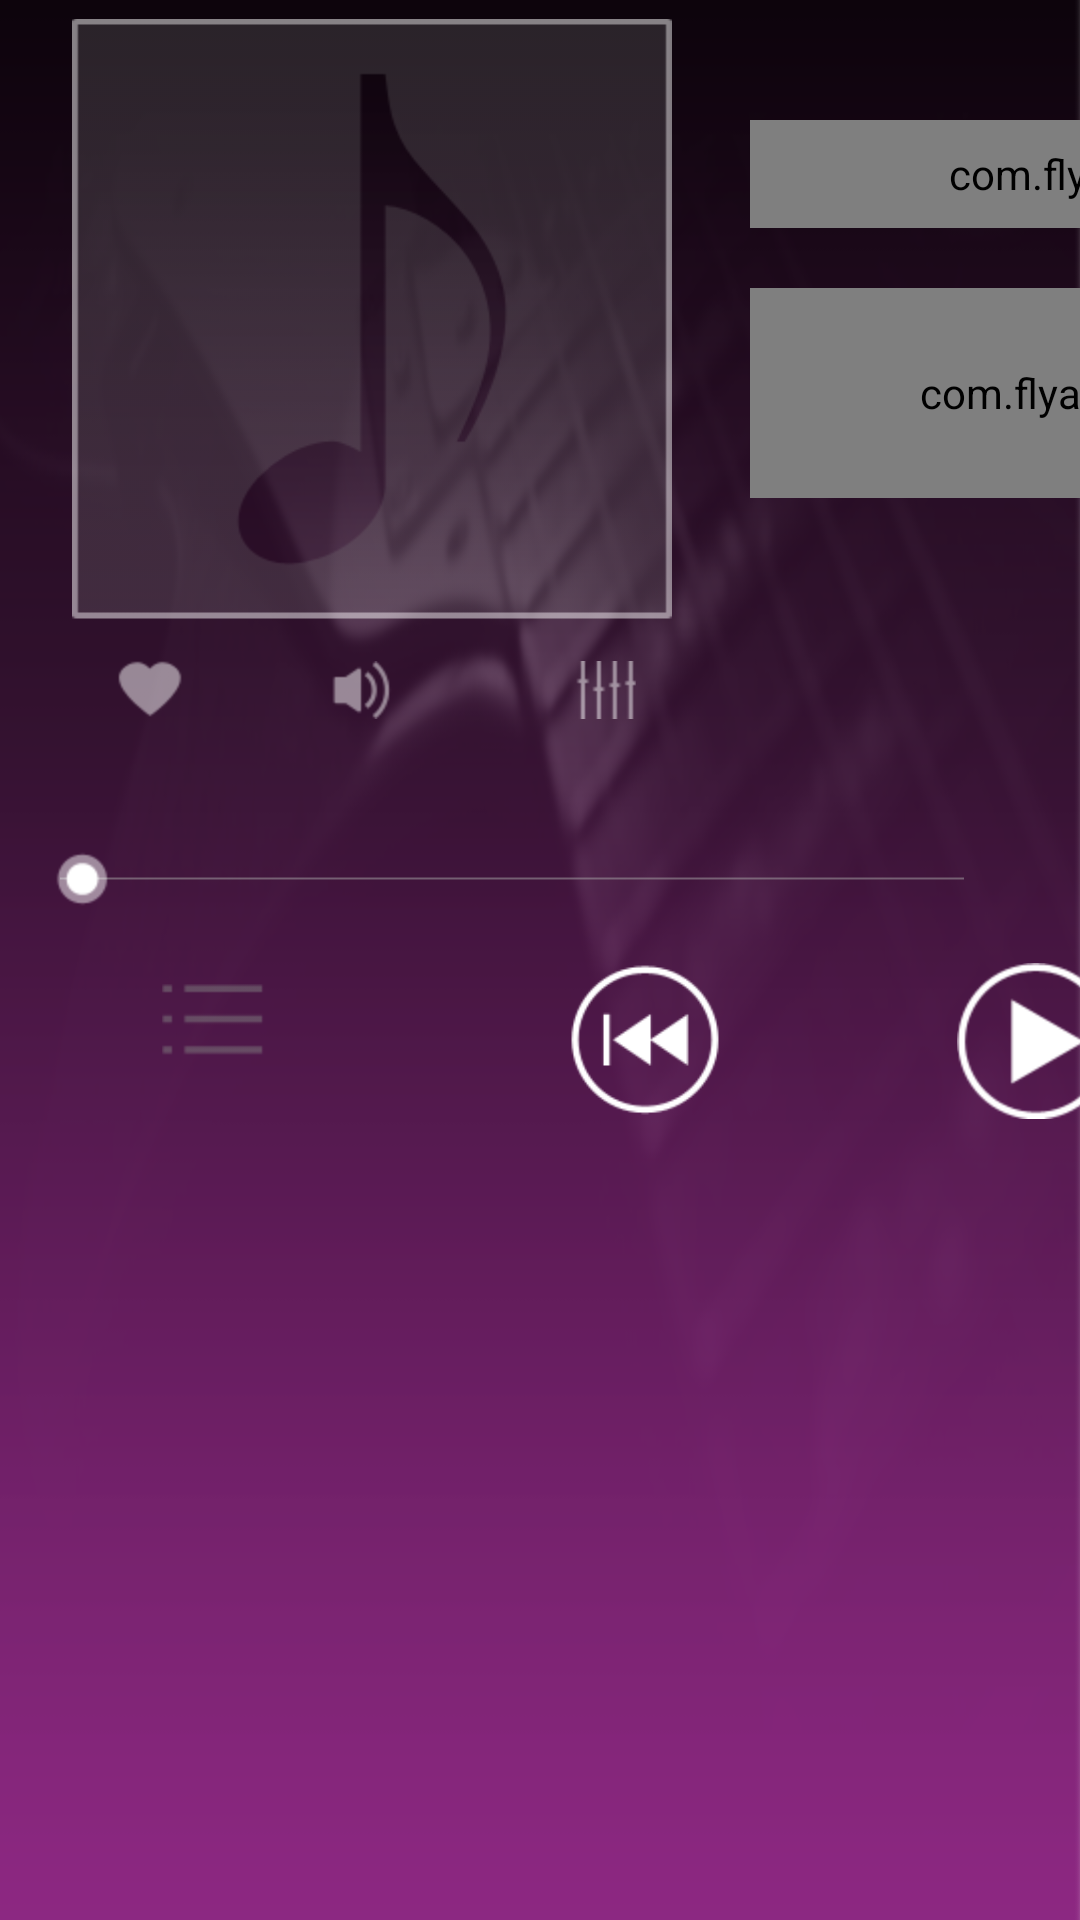

Where to tap for icons on this 1080px×1920px app screen, as point (x, y):
play favorites: point (149, 689)
play music list: point (212, 1019)
play sound style: point (606, 690)
play voice style: point (361, 690)
